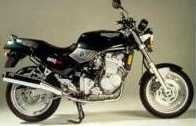motorcycle: (6, 11, 195, 122)
